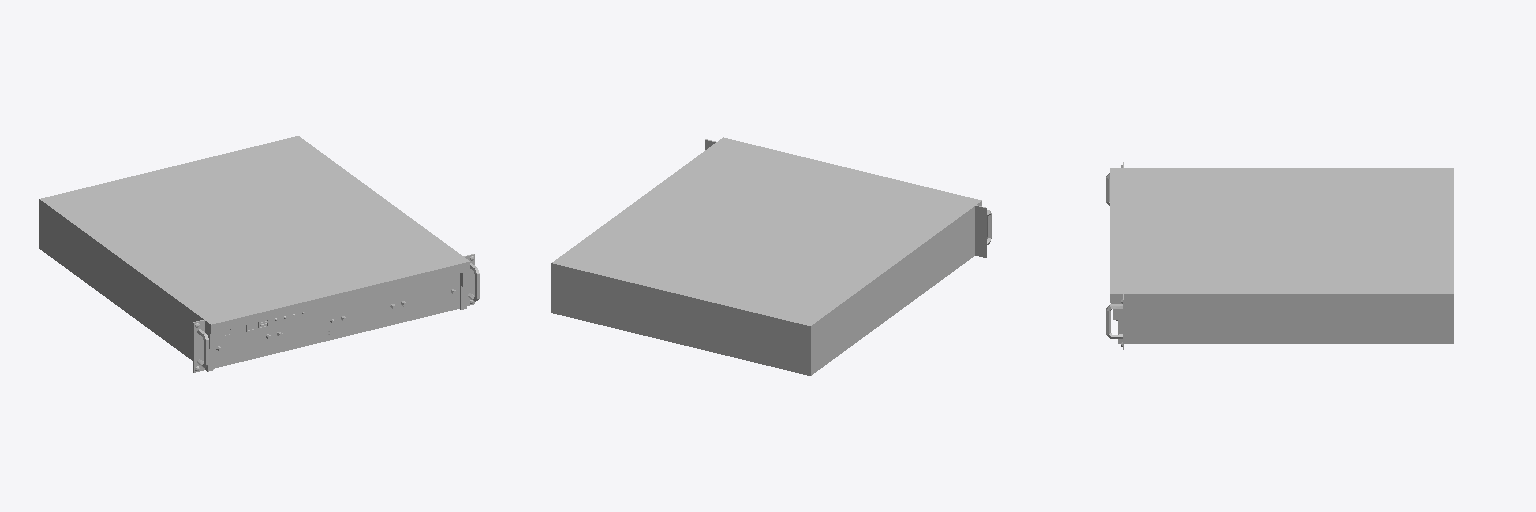
The picture shows the model from 3 angles: view 1: azimuth 30°, elevation 25°; view 2: azimuth 150°, elevation 25°; view 3: azimuth 270°, elevation 25°; orthographic projection.
Visible parts, largest first — view 1: polySurface1 C1_8, C1_8 polySurface58; view 2: polySurface1 C1_8, C1_8 polySurface58; view 3: polySurface1 C1_8.
Part boxes in pixels (bbox=[...]): polySurface1 C1_8: bbox=[39, 136, 469, 371]; C1_8 polySurface58: bbox=[193, 254, 479, 372]; polySurface1 C1_8: bbox=[551, 137, 981, 375]; C1_8 polySurface58: bbox=[705, 139, 991, 257]; polySurface1 C1_8: bbox=[1110, 168, 1453, 343].
Size of the model in its own units: 54.09 by 9.19 by 57.95.